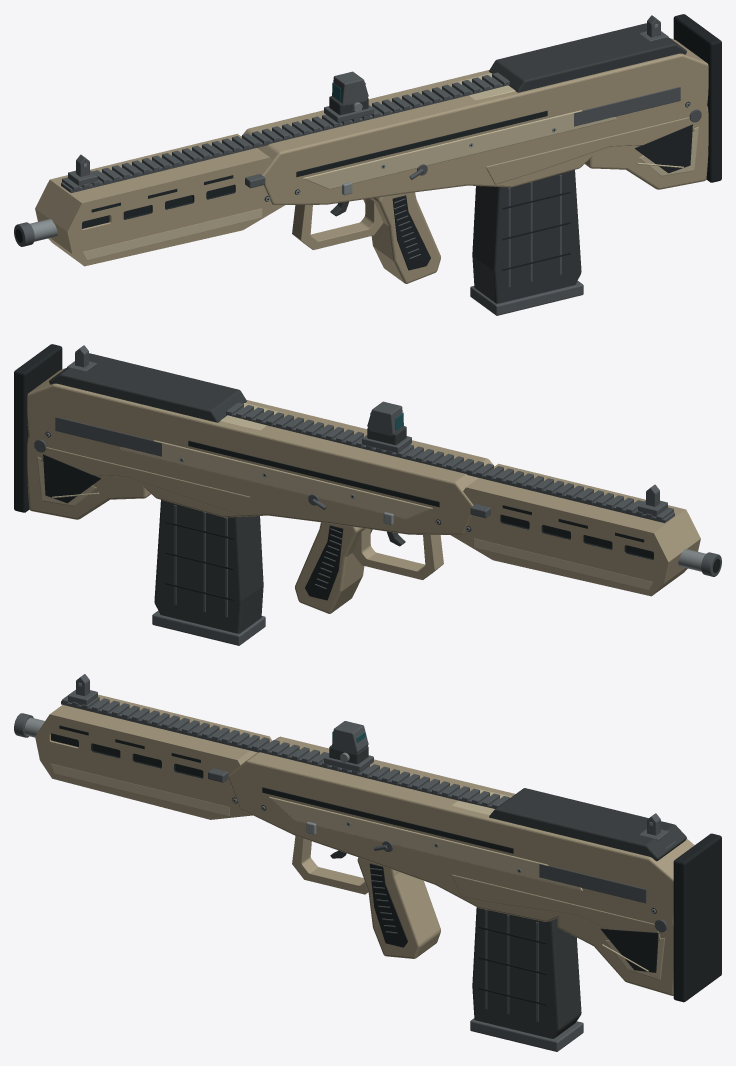
The model's file is mdr.glb.
3 views of the same model, one above another, from view 1: azimuth 30°, elevation 25°; view 2: azimuth 150°, elevation 25°; view 3: azimuth 330°, elevation 25° (orthographic).
Parts seen in each view (by area): view 1: part_receiver_surfaces, part_handguard_surfaces, part_stock_surfaces, part_magazine_surfaces, part_sights_surfaces, part_grip_surfaces, part_controls_surfaces, part_optic_surfaces, part_front_surfaces; view 2: part_receiver_surfaces, part_handguard_surfaces, part_stock_surfaces, part_magazine_surfaces, part_sights_surfaces, part_grip_surfaces, part_controls_surfaces, part_optic_surfaces, part_front_surfaces; view 3: part_receiver_surfaces, part_stock_surfaces, part_handguard_surfaces, part_magazine_surfaces, part_sights_surfaces, part_grip_surfaces, part_controls_surfaces, part_optic_surfaces.
Part boxes in pixels (<box>): part_receiver_surfaces: <box>241,38,708,204</box>; part_handguard_surfaces: <box>35,133,284,266</box>; part_stock_surfaces: <box>489,14,721,189</box>; part_magazine_surfaces: <box>470,170,583,315</box>; part_sights_surfaces: <box>61,15,674,192</box>; part_grip_surfaces: <box>363,192,440,283</box>; part_controls_surfaces: <box>245,164,427,249</box>; part_optic_surfaces: <box>324,71,373,122</box>; part_front_surfaces: <box>14,219,57,246</box>; part_receiver_surfaces: <box>27,368,494,534</box>; part_handguard_surfaces: <box>451,463,700,596</box>; part_stock_surfaces: <box>14,344,246,519</box>; part_magazine_surfaces: <box>152,500,265,645</box>; part_sights_surfaces: <box>61,345,674,522</box>; part_grip_surfaces: <box>295,522,372,613</box>; part_controls_surfaces: <box>308,494,490,579</box>; part_optic_surfaces: <box>362,401,411,452</box>; part_front_surfaces: <box>678,549,721,576</box>; part_receiver_surfaces: <box>228,736,694,940</box>; part_stock_surfaces: <box>489,788,721,1002</box>; part_handguard_surfaces: <box>35,694,272,819</box>; part_magazine_surfaces: <box>470,907,583,1051</box>; part_sights_surfaces: <box>61,674,675,848</box>; part_grip_surfaces: <box>357,857,440,958</box>; part_controls_surfaces: <box>208,768,392,894</box>; part_optic_surfaces: <box>324,721,373,771</box>.
Size of the model in its own units: 280 by 102 by 30.13.
